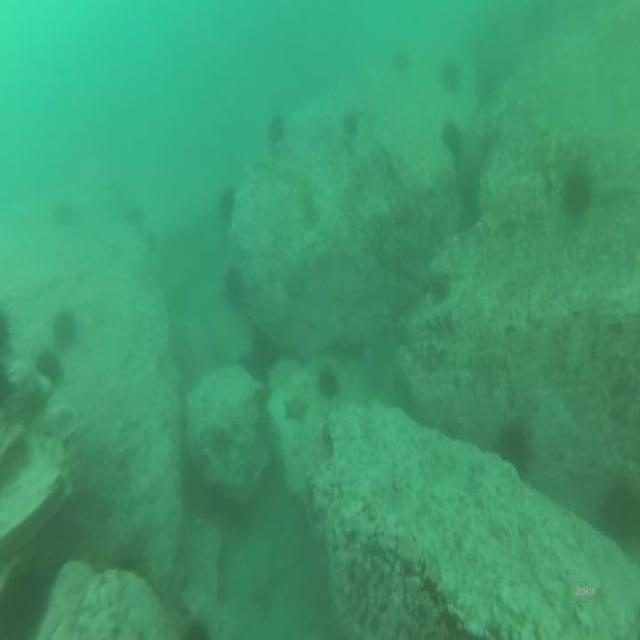echinus: (607, 484, 640, 552), (497, 425, 527, 466), (35, 346, 63, 386), (564, 172, 591, 212), (222, 264, 244, 308), (317, 365, 339, 403), (219, 188, 237, 228), (55, 314, 77, 344), (445, 119, 459, 150), (344, 111, 356, 136), (268, 117, 282, 136)
starfish: (286, 393, 308, 422)
